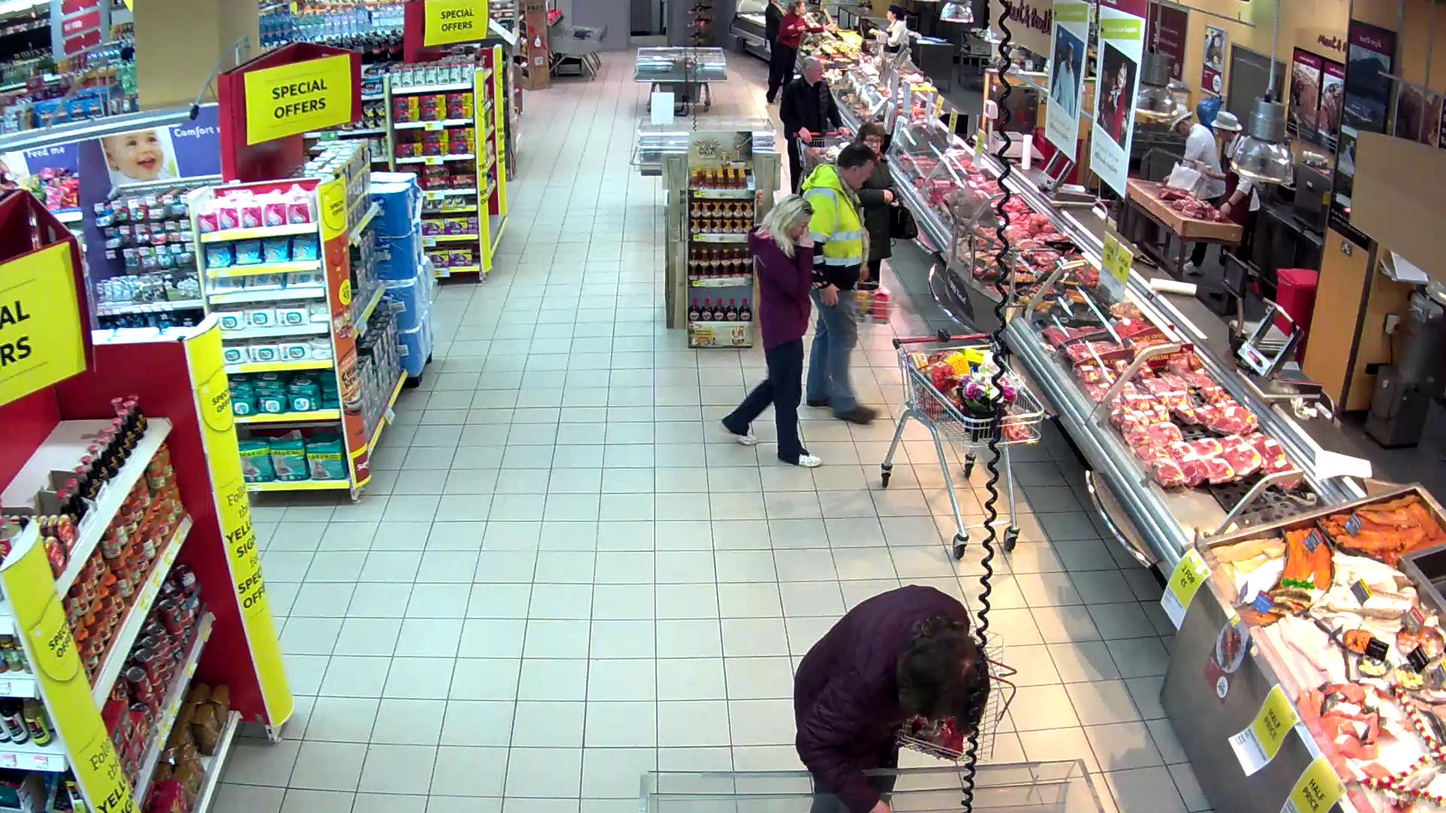filled-basket: (898, 627, 1015, 762), (837, 271, 900, 323)
person: (793, 583, 991, 813), (800, 145, 878, 425)
person-with-filled-basket-trolly: (794, 583, 1016, 813), (800, 144, 902, 425)
